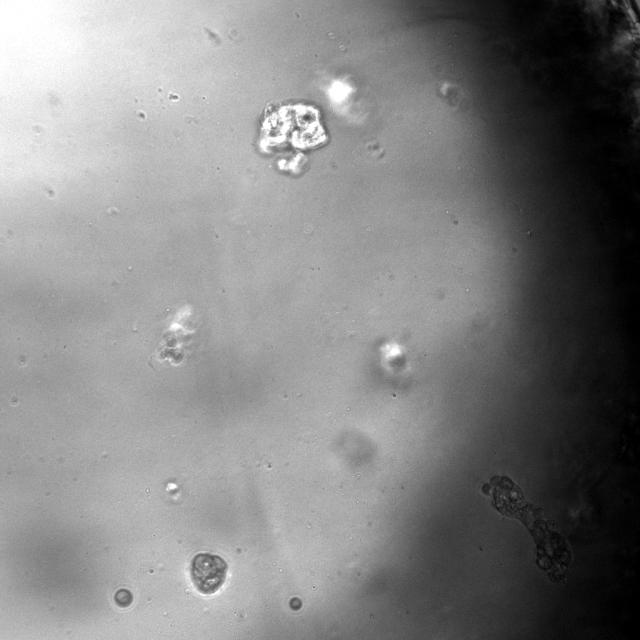organoid: (482, 476, 572, 581), (258, 101, 328, 176), (157, 306, 196, 365), (191, 552, 228, 595), (114, 588, 132, 606), (288, 596, 302, 611)
